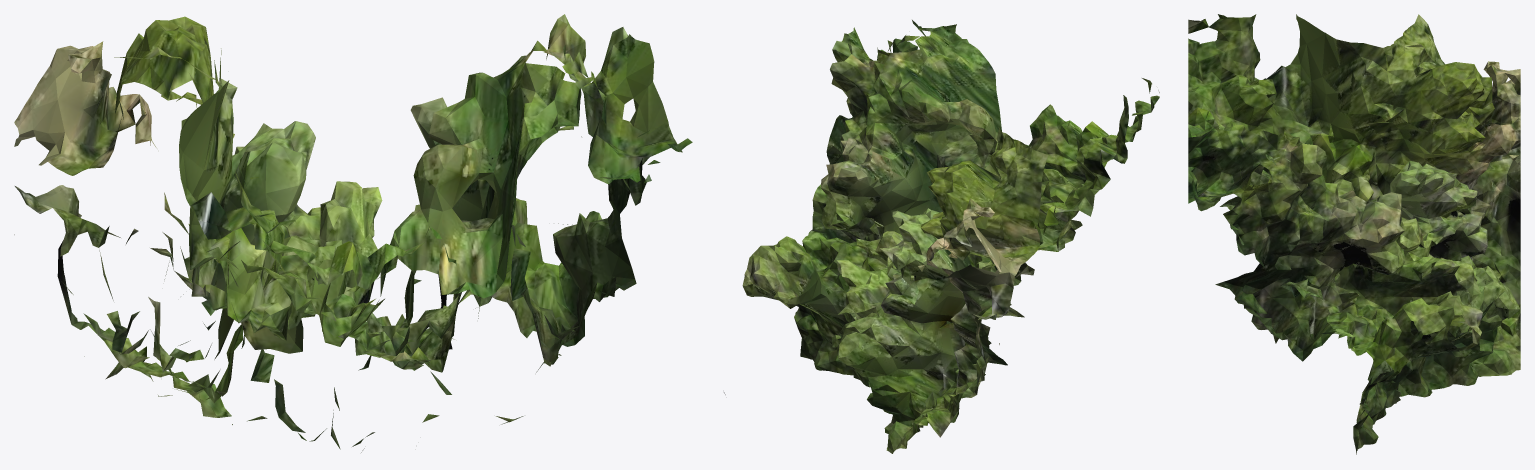
3 views of the same model, side by side, from view 1: azimuth 30°, elevation 25°; view 2: azimuth 150°, elevation 25°; view 3: azimuth 270°, elevation 25° (orthographic). The views are drawn at different scales.
Bounding box in the file's own units: 26.11 × 26.11 × 26.11.
9 materials, 9 textured.
